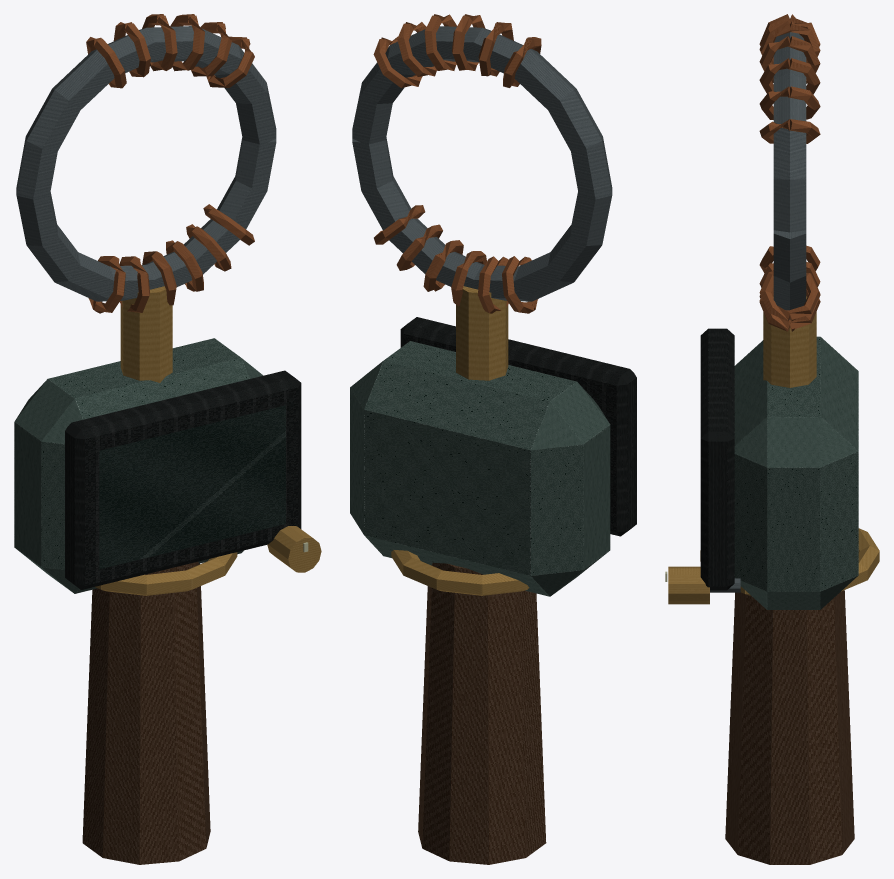
Rendered from blender_ritual_anchor_meter_2.glb.
3 renders of one model, left to right at view 1: azimuth 30°, elevation 25°; view 2: azimuth 150°, elevation 25°; view 3: azimuth 270°, elevation 25°, orthographic.
Parts seen in each view (by area): view 1: blender_ritual_anchor_meter_2; view 2: blender_ritual_anchor_meter_2; view 3: blender_ritual_anchor_meter_2.
Boxes of the visible parts, x1=… form: blender_ritual_anchor_meter_2: x1=14, y1=14, x2=321, y2=864; blender_ritual_anchor_meter_2: x1=350, y1=14, x2=636, y2=864; blender_ritual_anchor_meter_2: x1=665, y1=14, x2=879, y2=864.
Size of the model in its own units: 0.0779 by 0.2345 by 0.0564.
Materials: 8 (8 with a texture image).
